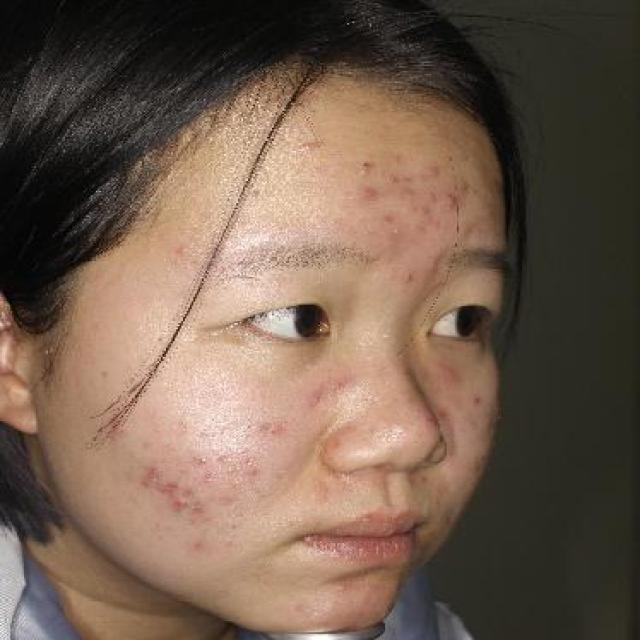dark spot: (164, 477, 195, 514), (132, 462, 169, 489), (351, 158, 375, 180)
pustules: (438, 192, 462, 212)
